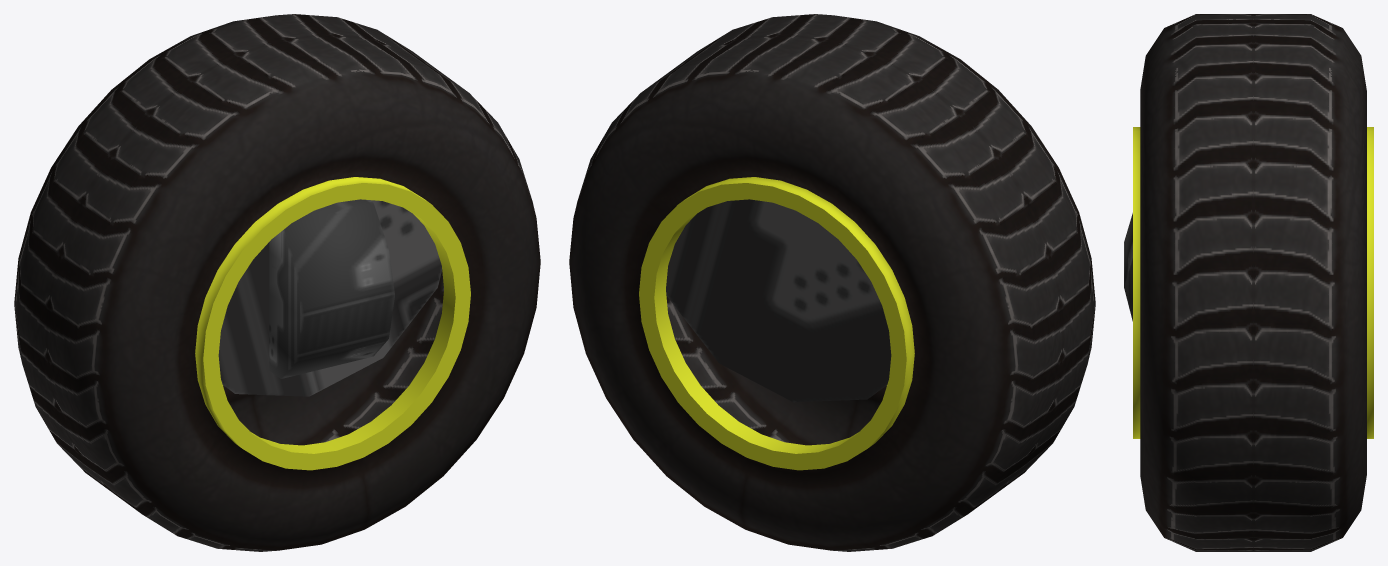
File: cyberoctopus_wheel1.obj
3 views of the same model, side by side, from view 1: azimuth 30°, elevation 25°; view 2: azimuth 150°, elevation 25°; view 3: azimuth 270°, elevation 25° (orthographic).
Visible parts, largest first — view 1: front_wheel_low_front_wheel_low.001; view 2: front_wheel_low_front_wheel_low.001; view 3: front_wheel_low_front_wheel_low.001.
Boxes of the visible parts, bbox=[...] form: front_wheel_low_front_wheel_low.001: bbox=[14, 14, 540, 551]; front_wheel_low_front_wheel_low.001: bbox=[569, 14, 1095, 551]; front_wheel_low_front_wheel_low.001: bbox=[1124, 14, 1373, 551].
Size of the model in its own units: 1.04 by 1.04 by 0.484.
2 materials, 2 textured.
